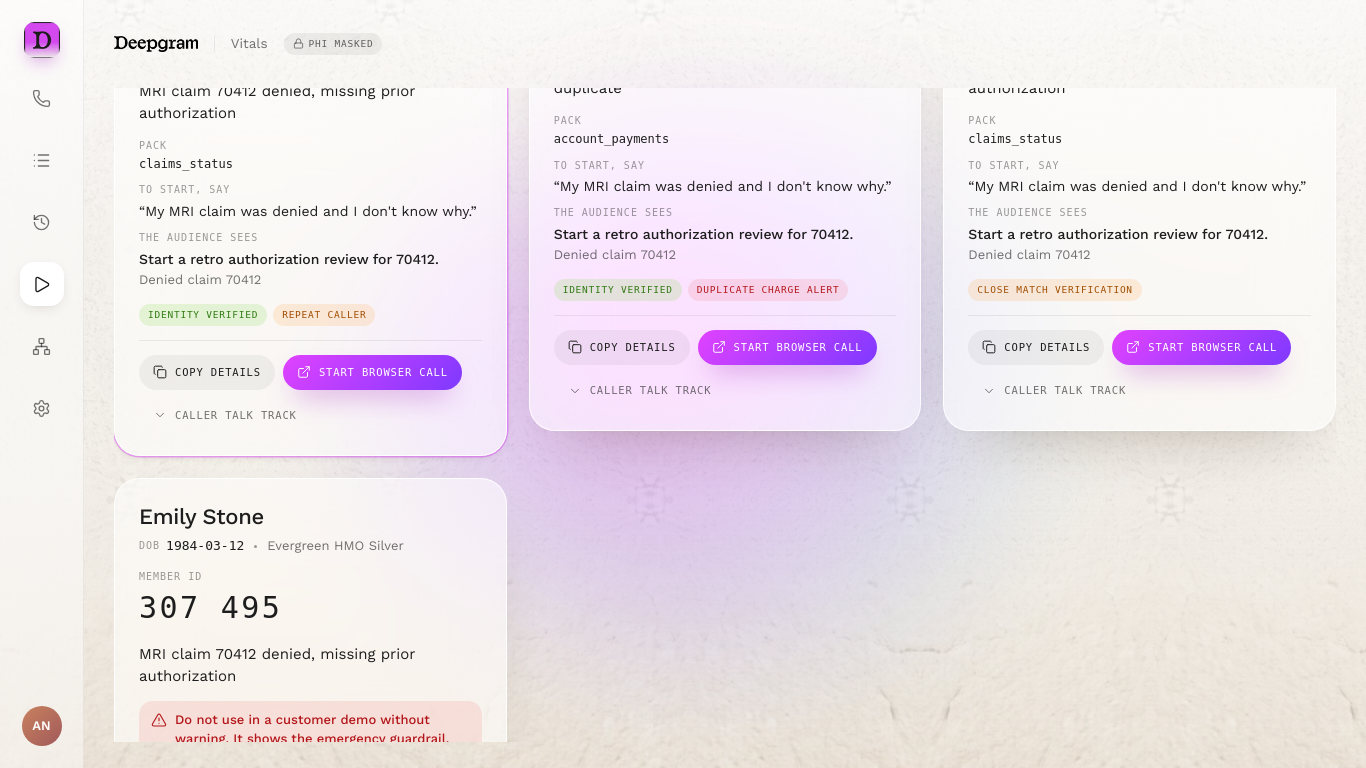
Test case: Demos page (P5-10) › actions › notes the two tester rules from the P5-4 runs
(page scrolled)
Step 1. Click the button "Caller talk track" below "Repeat caller" → (225, 415), box top-left (139, 398), bottom-right (311, 433)
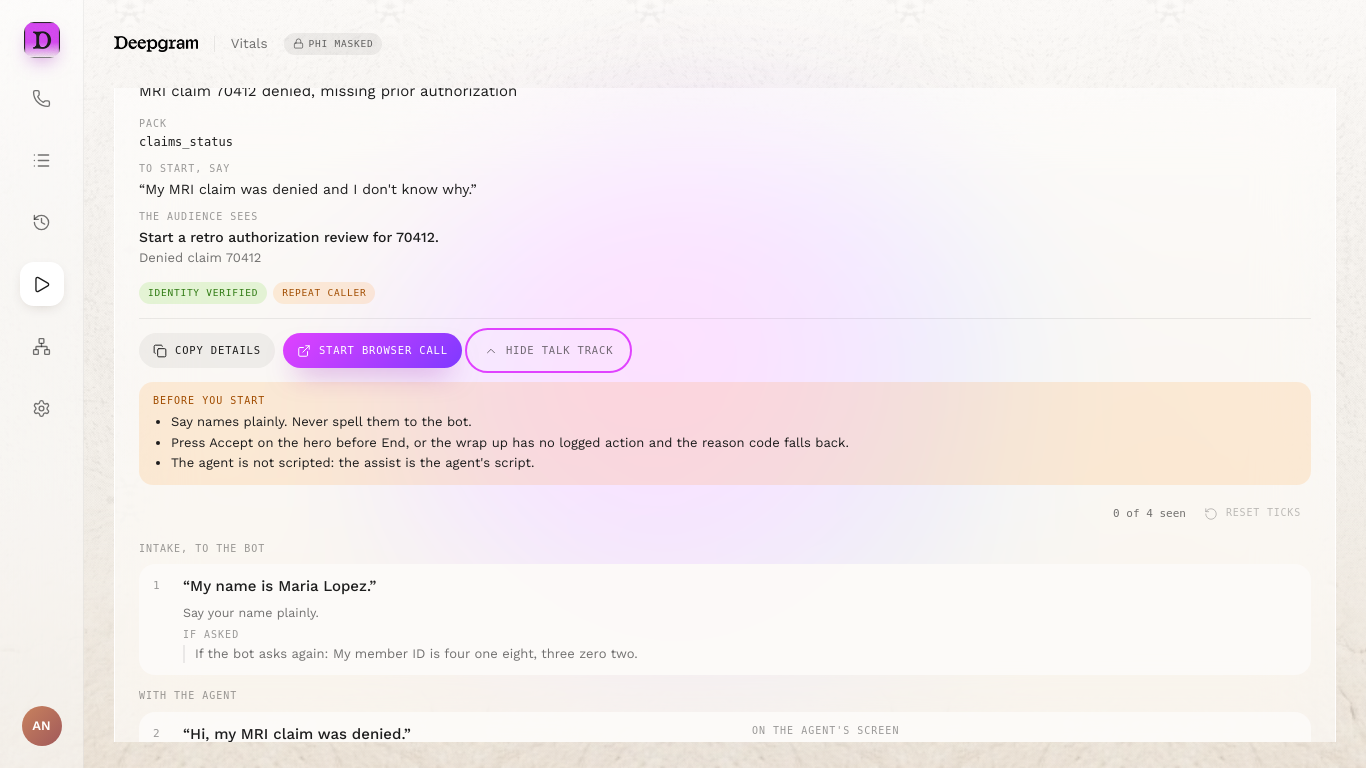
Check: the element "Before you start" shows "Say names plainly. Never spell them to the bot.", box top-left (171, 414), bottom-right (472, 429)
Check: the element "Before you start" shows "Press Accept on the hero before End", box top-left (171, 435), bottom-right (849, 450)
